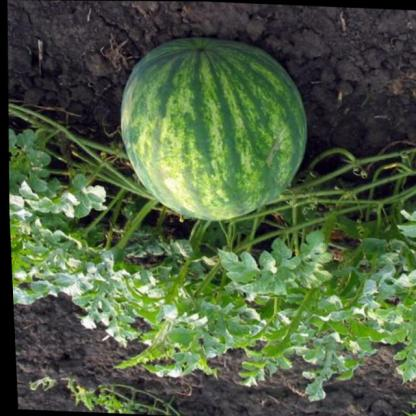watermelon: (113, 34, 315, 225)
